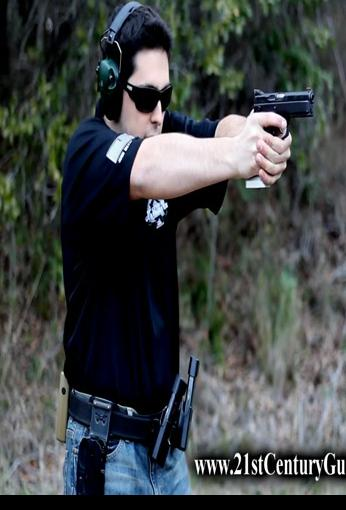pistol: (244, 86, 315, 189)
